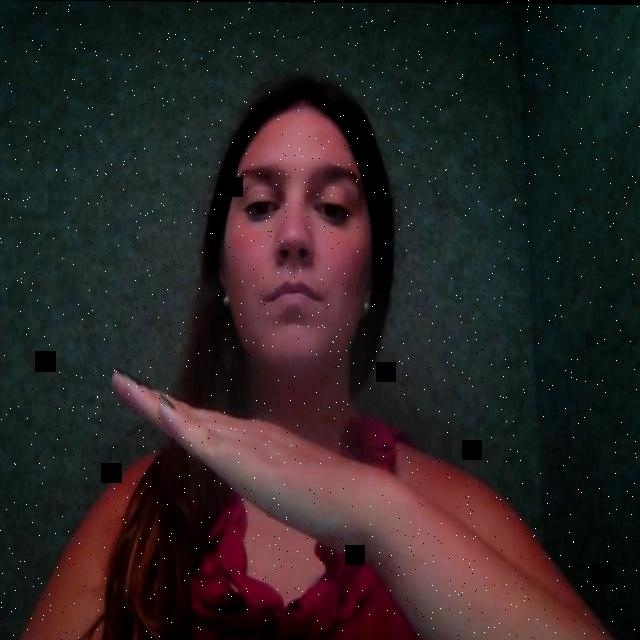Paper: (105, 369, 386, 554)
